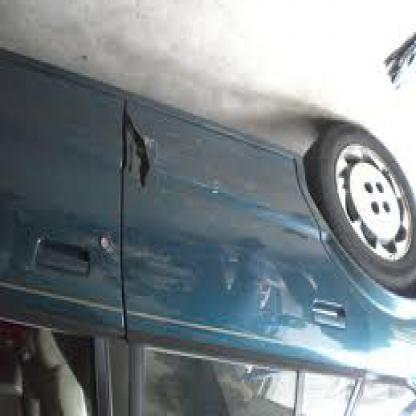dent: (112, 111, 156, 193)
